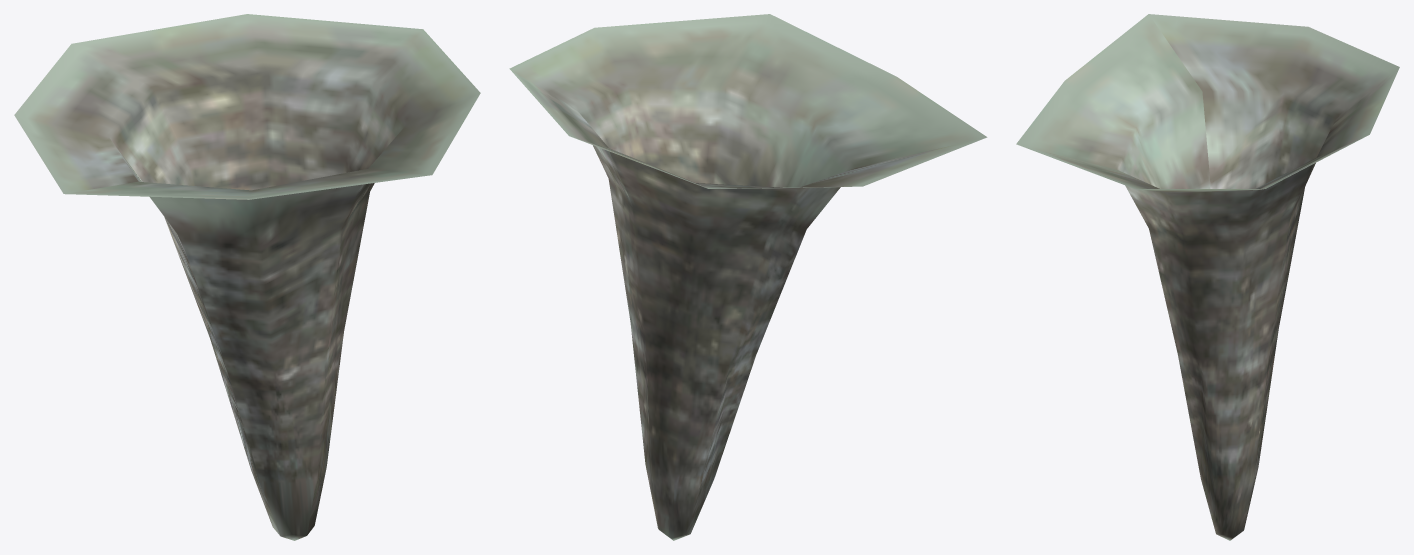
The model's file is TROLLHOLE02_PS-SECRETSTALAG17.fbx.
The picture shows the model from 3 angles, left to right: view 1: azimuth 30°, elevation 25°; view 2: azimuth 150°, elevation 25°; view 3: azimuth 270°, elevation 25°; orthographic projection. The views are drawn at different scales.
Parts seen in each view (by area): view 1: TROLLHOLE02_PS-SECRETSTALAG17; view 2: TROLLHOLE02_PS-SECRETSTALAG17; view 3: TROLLHOLE02_PS-SECRETSTALAG17.
Part boxes in pixels (bbox=[...]): TROLLHOLE02_PS-SECRETSTALAG17: bbox=[14, 14, 480, 540]; TROLLHOLE02_PS-SECRETSTALAG17: bbox=[509, 14, 987, 540]; TROLLHOLE02_PS-SECRETSTALAG17: bbox=[1016, 14, 1399, 540].
Size of the model in its own units: 31640 by 33005 by 27375.
Materials: 1 (1 with a texture image).
